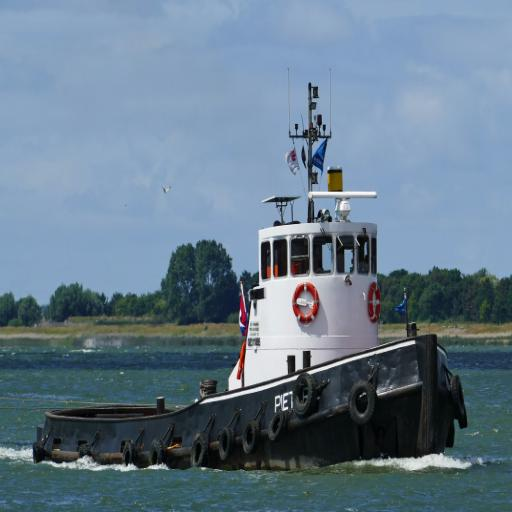tugboat: (27, 80, 473, 486)
